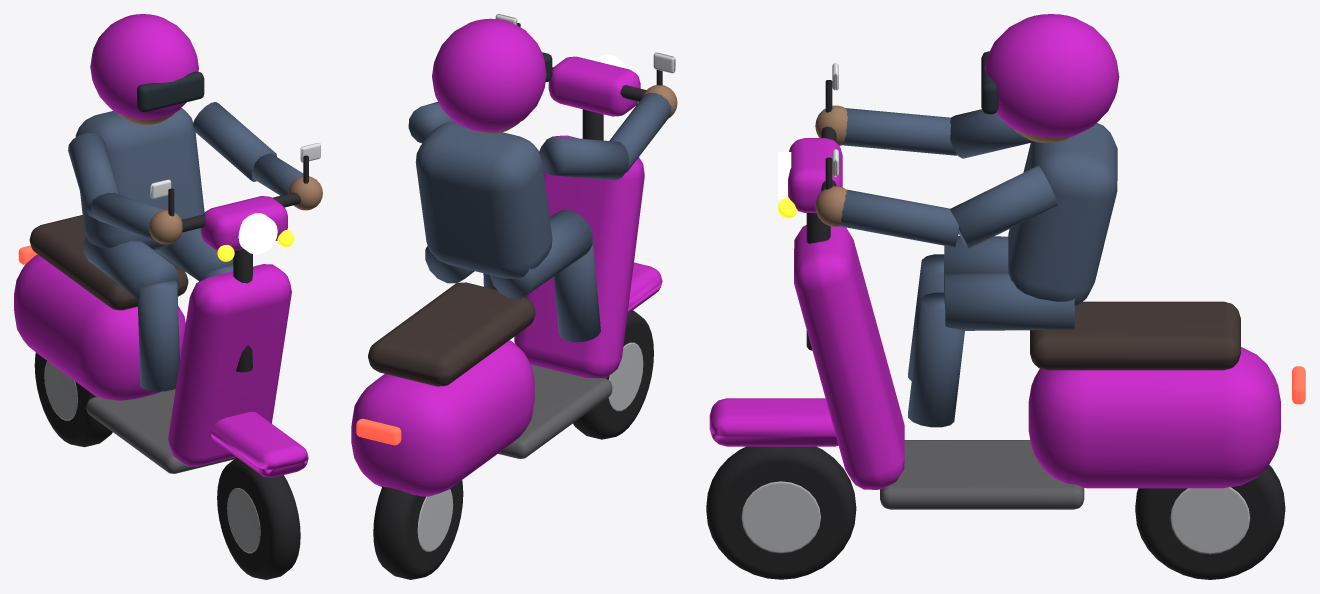
The model's file is scooter-high.glb.
3 renders of one model, left to right at view 1: azimuth 30°, elevation 25°; view 2: azimuth 150°, elevation 25°; view 3: azimuth 270°, elevation 25°, orthographic. The views are drawn at different scales.
Visible parts, largest first — view 1: wf; view 2: wf; view 3: wf.
Part boxes in pixels (x1,y1,x2,y2): wf: [14, 14, 322, 579]; wf: [351, 14, 677, 579]; wf: [706, 14, 1305, 579].
Size of the model in its own units: 0.7642 by 1.81 by 1.76.
